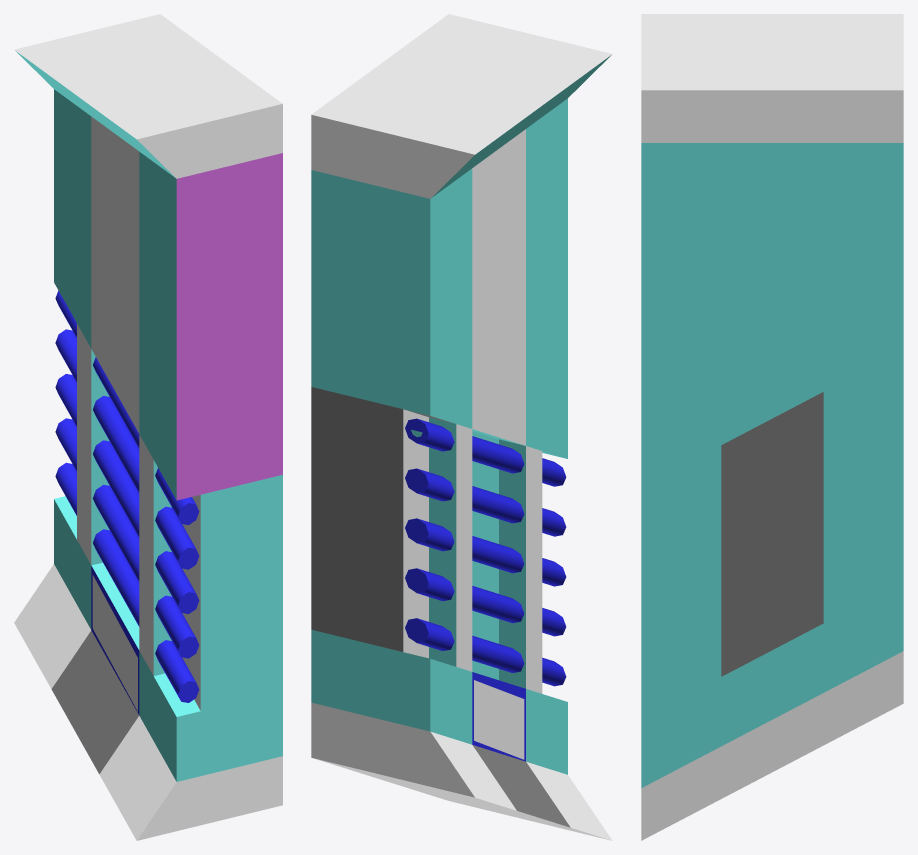
Rendered from WallBaseAngledTall.fbx.
The picture shows the model from 3 angles, left to right: view 1: azimuth 30°, elevation 25°; view 2: azimuth 150°, elevation 25°; view 3: azimuth 270°, elevation 25°; orthographic projection. The views are drawn at different scales.
Parts seen in each view (by area): view 1: BaseAngledTall; view 2: BaseAngledTall; view 3: BaseAngledTall.
Part boxes in pixels (box(x1,y1,x2,y2)): BaseAngledTall: box(14, 14, 282, 840); BaseAngledTall: box(311, 14, 612, 840); BaseAngledTall: box(641, 14, 903, 840).
Bounding box in the file's own units: 54.17 × 248 × 78.74.
